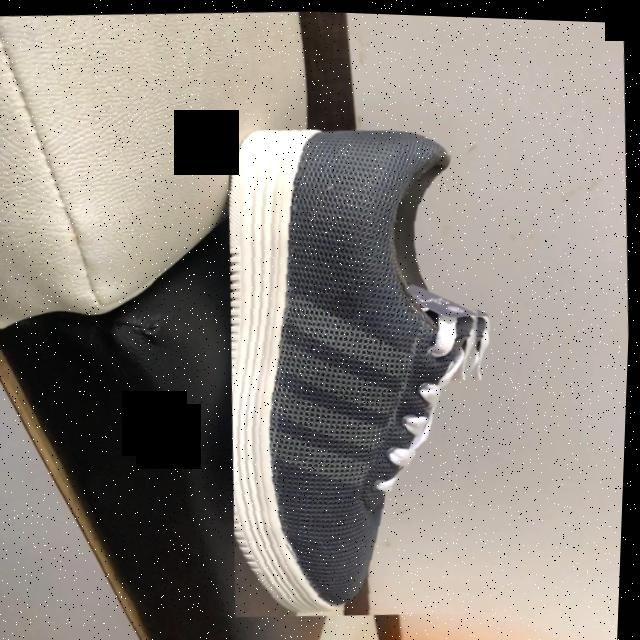shoe: (230, 128, 483, 613)
